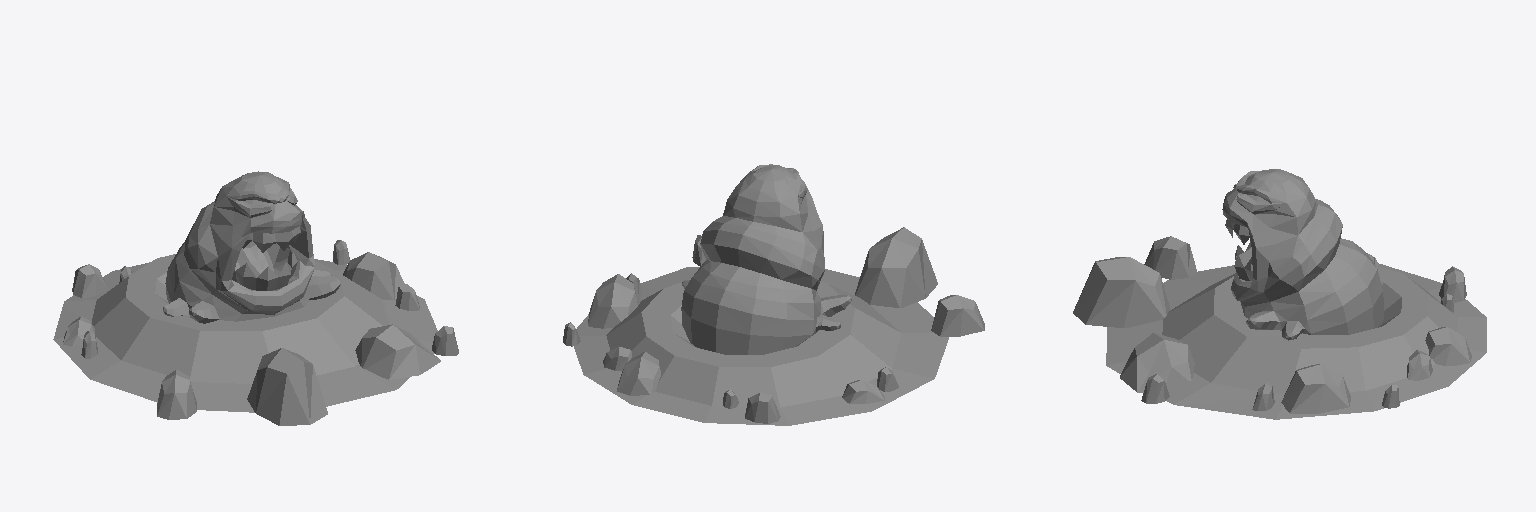
Rendered from Worm.obj.
The picture shows the model from 3 angles: view 1: azimuth 30°, elevation 25°; view 2: azimuth 150°, elevation 25°; view 3: azimuth 270°, elevation 25°; orthographic projection.
Parts seen in each view (by area): view 1: f0_o168_p2_v66; view 2: f0_o168_p2_v66; view 3: f0_o168_p2_v66.
Boxes of the visible parts, x1,y1,x2,y2 form: f0_o168_p2_v66: [53, 171, 458, 425]; f0_o168_p2_v66: [563, 164, 984, 425]; f0_o168_p2_v66: [1073, 169, 1486, 419].
Size of the model in its own units: 35.22 by 16.89 by 37.97.